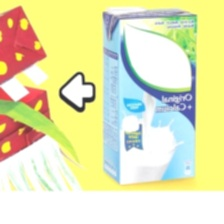carton: (94, 5, 201, 189)
